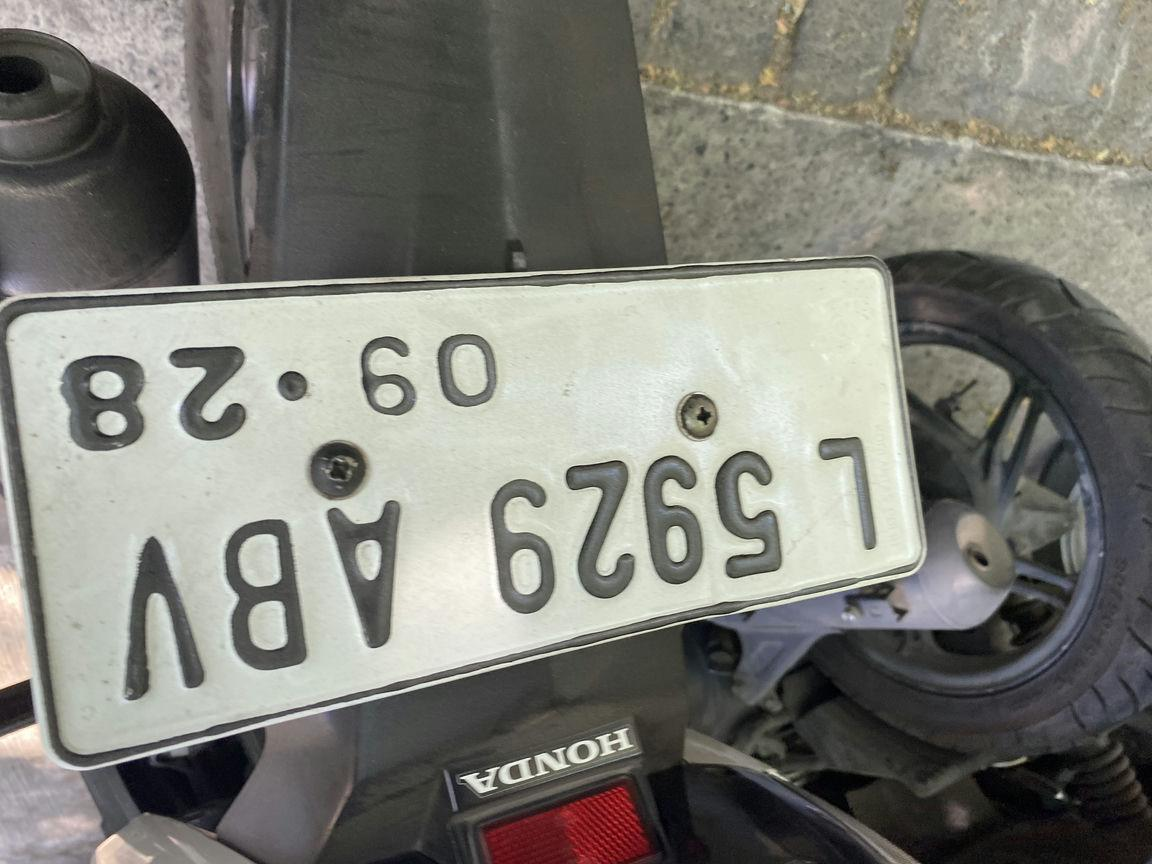plat: (227, 97, 1152, 603)
